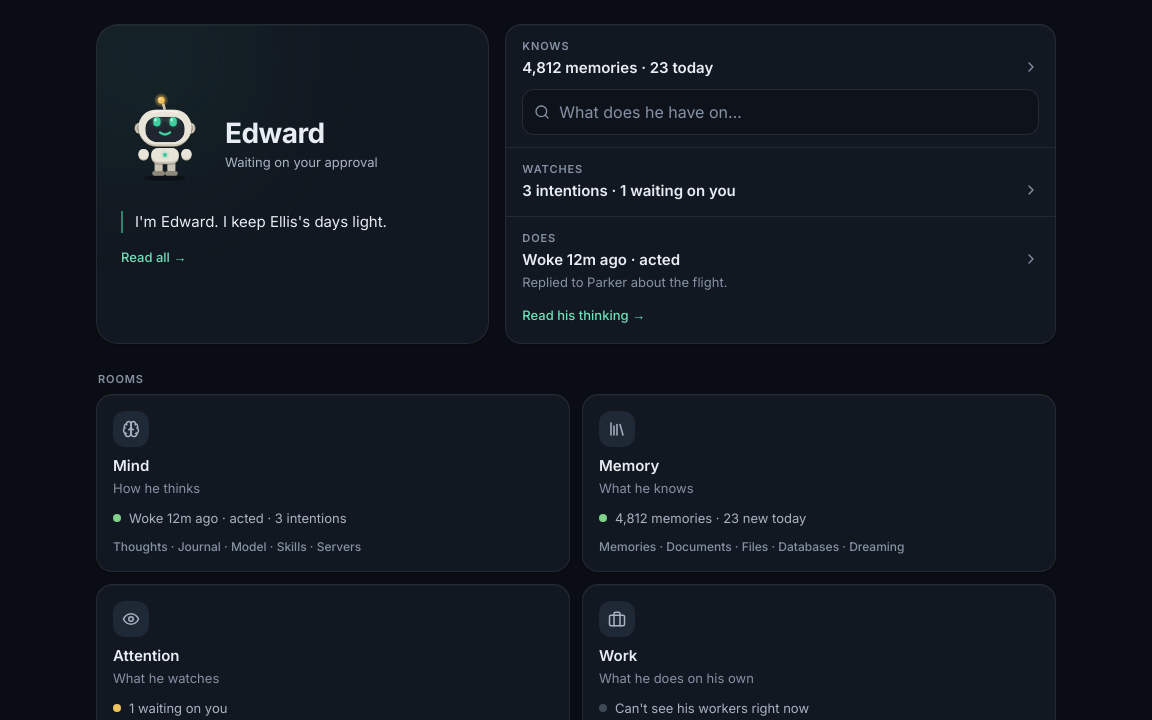
Test: the Edward tab landing › opens his whole page from Read all (the markdown renderer loads on demand)
Click the button "Read all →" at (154, 257), box [113,235,194,279]
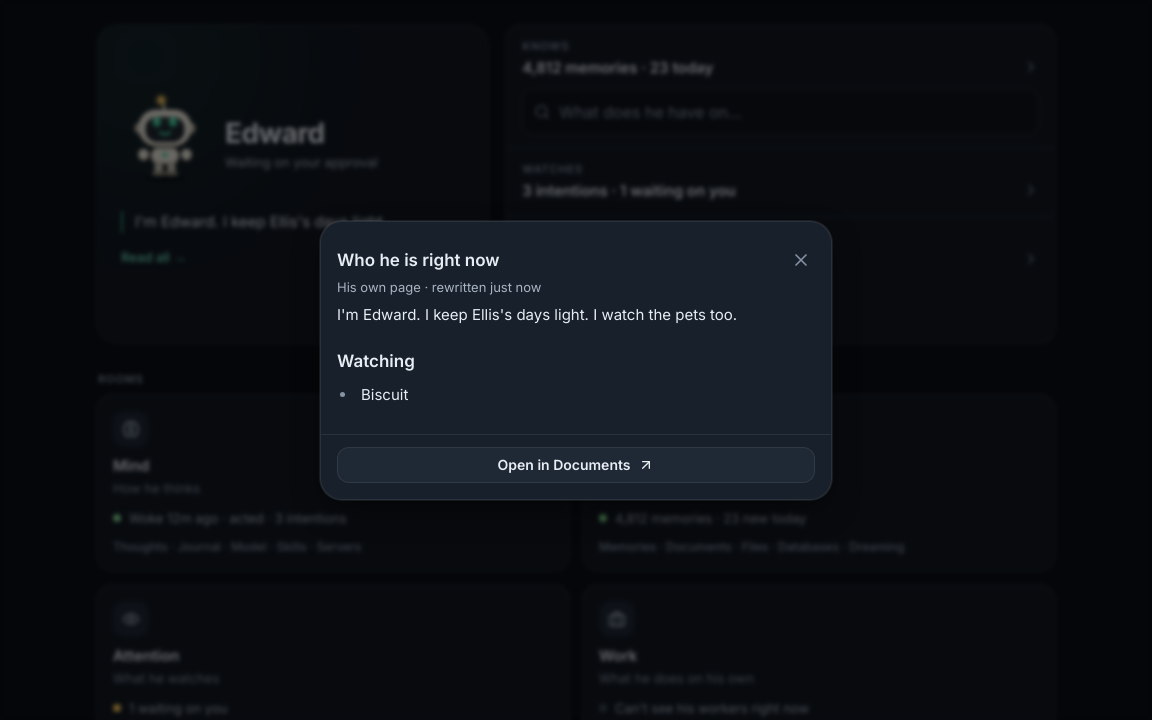
Expected: the heading "Watching" is shown, [337,350,415,370]
